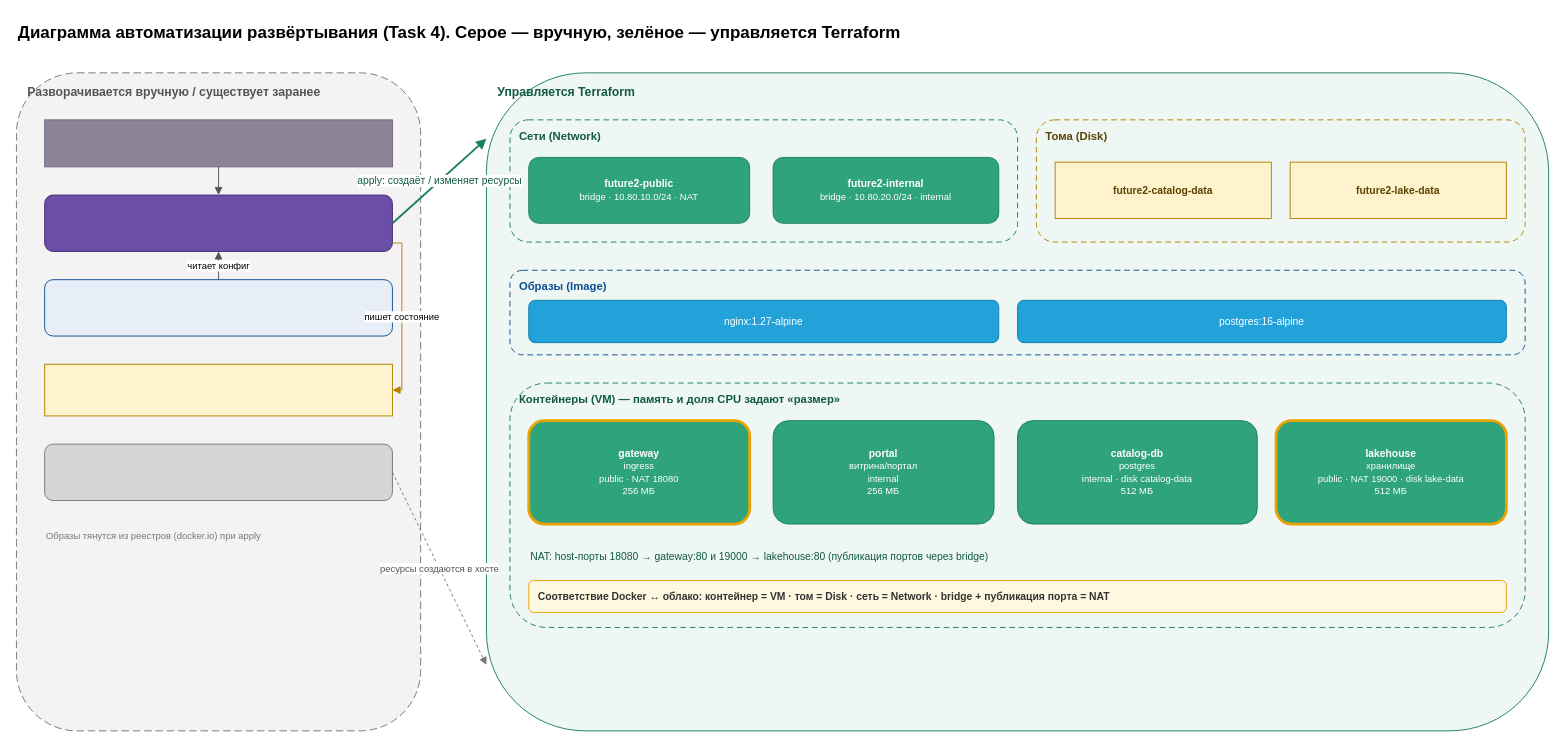
Some shapes in this 1565 by 747 pixel diagram are drawn without their labels. Each missing label, with the centre of its shape:
"Terraform CLI init · plan · apply + провайдер kreuzwerker/docker" belongs at point (218, 222).
"terraform.tfstate local backend (состояние инфраструктуры)" belongs at point (218, 389).
"Конфигурация (код) main.tf · variables.tf · outputs.tf · terraform.tfvars" belongs at point (218, 307).
"Оператор / инженер" belongs at point (218, 143).
"Хост: podman machine docker-совместимый сокет (аналог облачного проекта)" belongs at point (218, 472).
